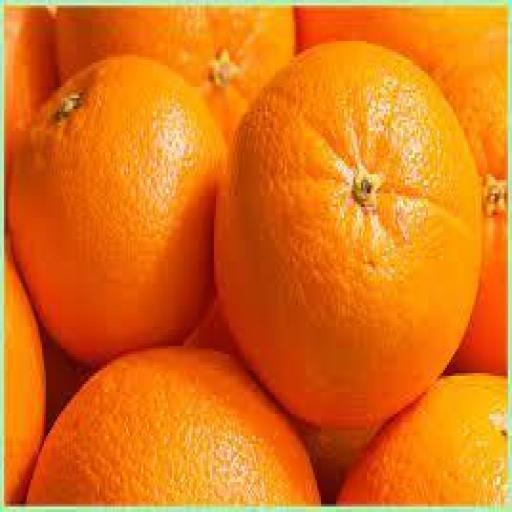orange: (216, 41, 481, 427), (8, 58, 225, 364)
